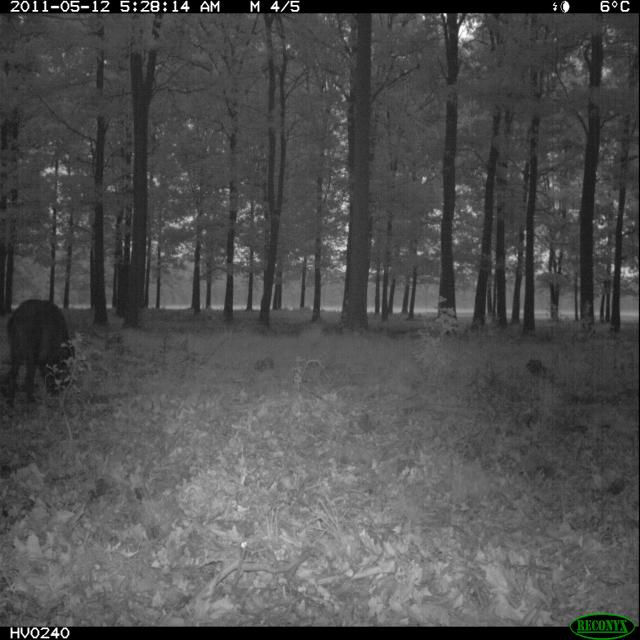boar: (0, 293, 96, 412)
